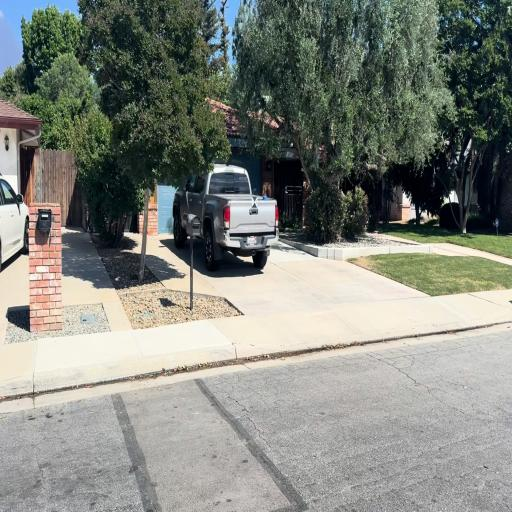target1: (252, 196, 258, 209)
